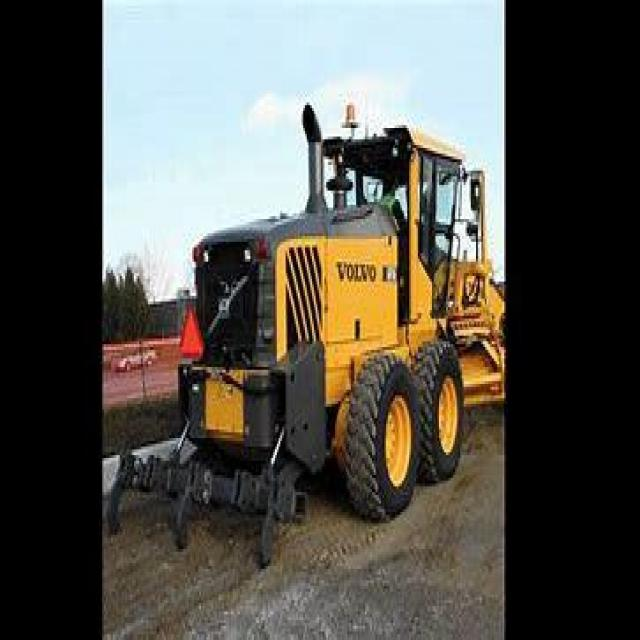Grader: (141, 111, 503, 535)
